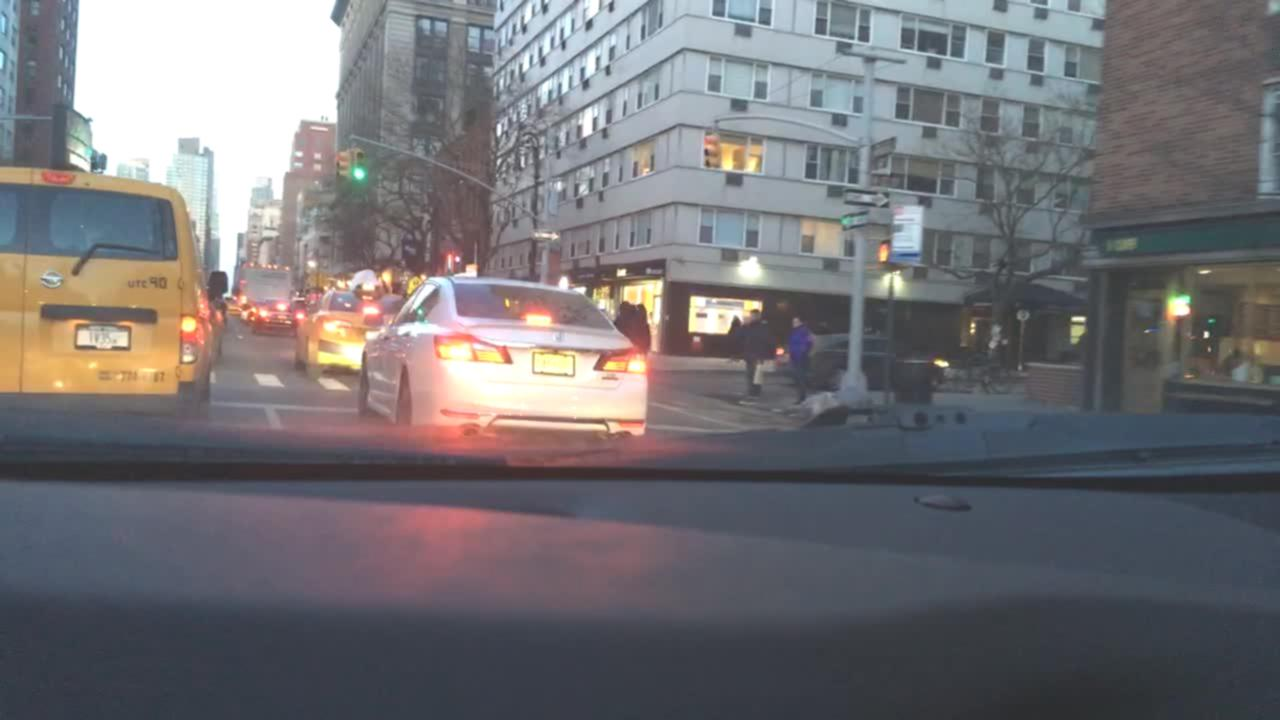Nissan: (36, 268, 67, 292)
